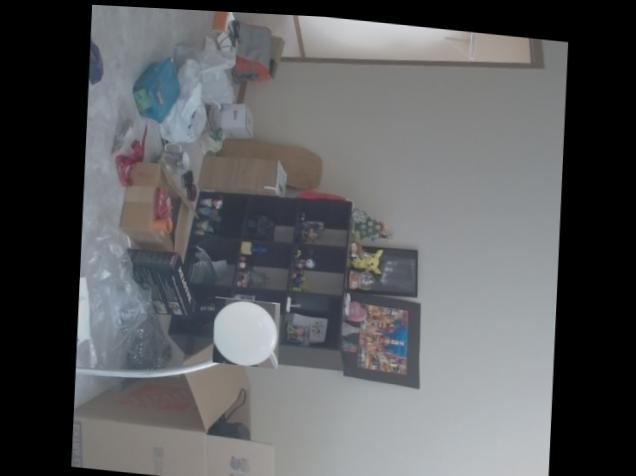Fan: (212, 293, 280, 365)
